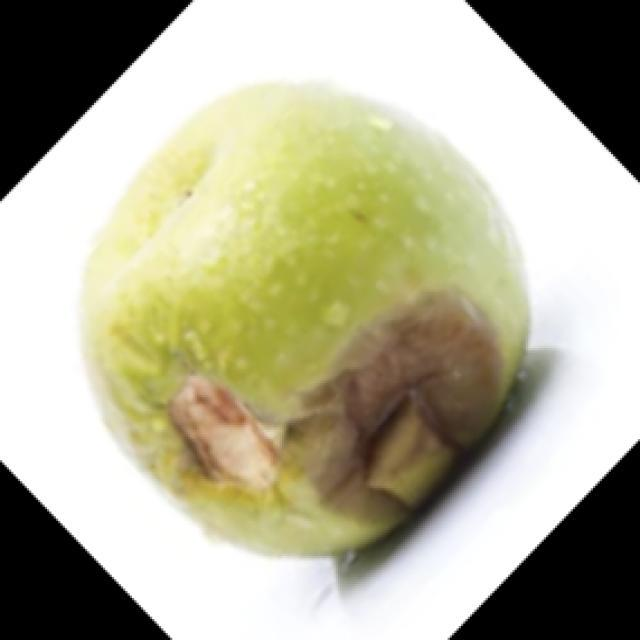Rotten: (100, 90, 510, 557)
